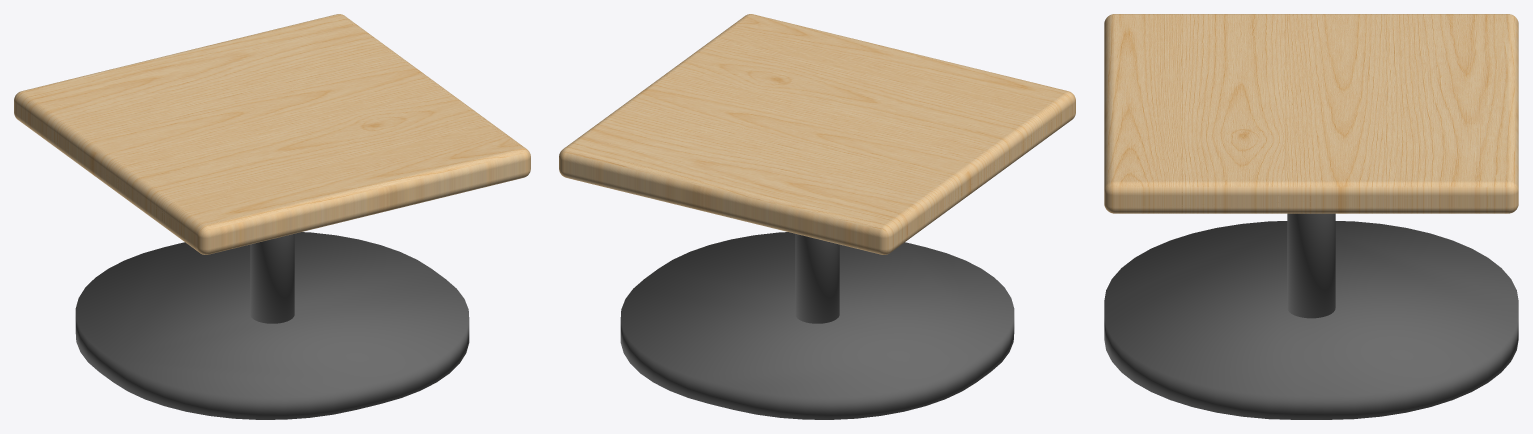
The model's file is Table.obj.
The picture shows the model from 3 angles, left to right: view 1: azimuth 30°, elevation 25°; view 2: azimuth 150°, elevation 25°; view 3: azimuth 270°, elevation 25°; orthographic projection. The views are drawn at different scales.
Parts seen in each view (by area): view 1: Plane, Plane.001, Cylinder; view 2: Plane, Plane.001, Cylinder; view 3: Plane, Plane.001, Cylinder.
Part boxes in pixels (x1,y1,x2,y2): Plane: (14,14,530,254); Plane.001: (75,232,469,419); Cylinder: (250,234,294,323); Plane: (559,14,1075,254); Plane.001: (620,232,1014,419); Cylinder: (795,234,839,323); Plane: (1104,14,1518,213); Plane.001: (1104,221,1518,419); Cylinder: (1287,213,1335,318).
Bounding box in the file's own units: 2 × 1.25 × 2.
